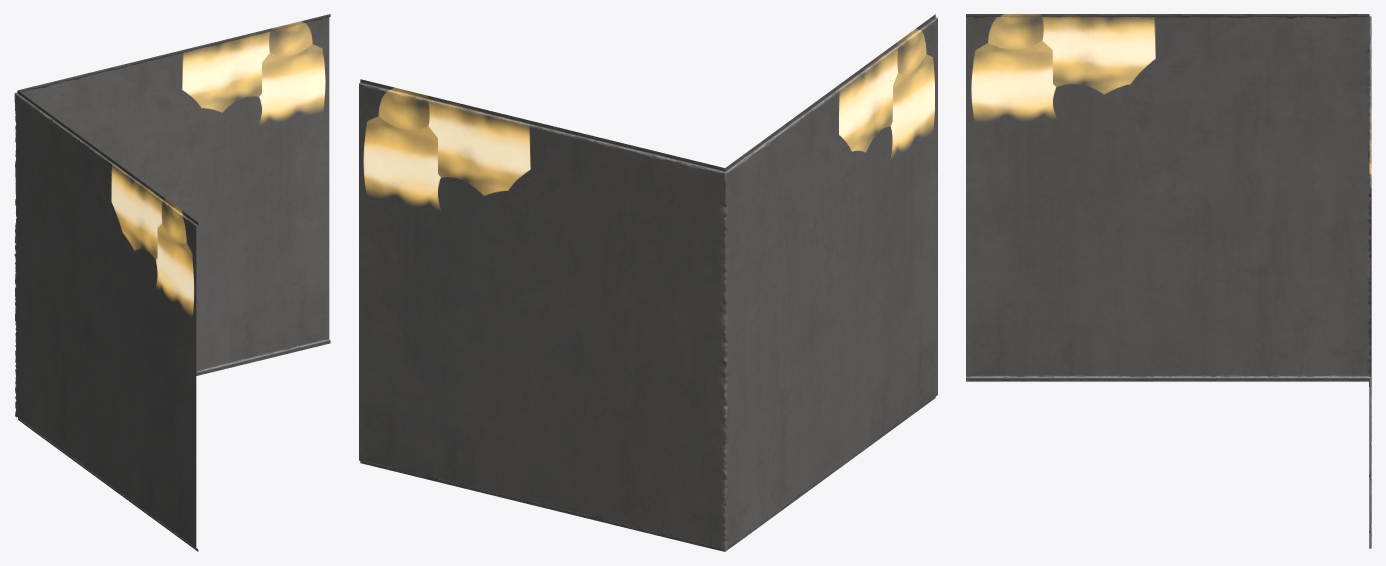
The model's file is SM_Sewer_Wall_Concrete_01b.fbx.
3 views of the same model, side by side, from view 1: azimuth 30°, elevation 25°; view 2: azimuth 150°, elevation 25°; view 3: azimuth 270°, elevation 25° (orthographic). The views are drawn at different scales.
Visible parts, largest first — view 1: SM_Sewer_Wall_Concrete_01b_LOD0; view 2: SM_Sewer_Wall_Concrete_01b_LOD0; view 3: SM_Sewer_Wall_Concrete_01b_LOD0.
Boxes of the visible parts, <box> form: SM_Sewer_Wall_Concrete_01b_LOD0: <box>14,14,330,551</box>; SM_Sewer_Wall_Concrete_01b_LOD0: <box>359,14,937,551</box>; SM_Sewer_Wall_Concrete_01b_LOD0: <box>966,14,1371,548</box>.
Bounding box in the file's own units: 200 × 200 × 200.
